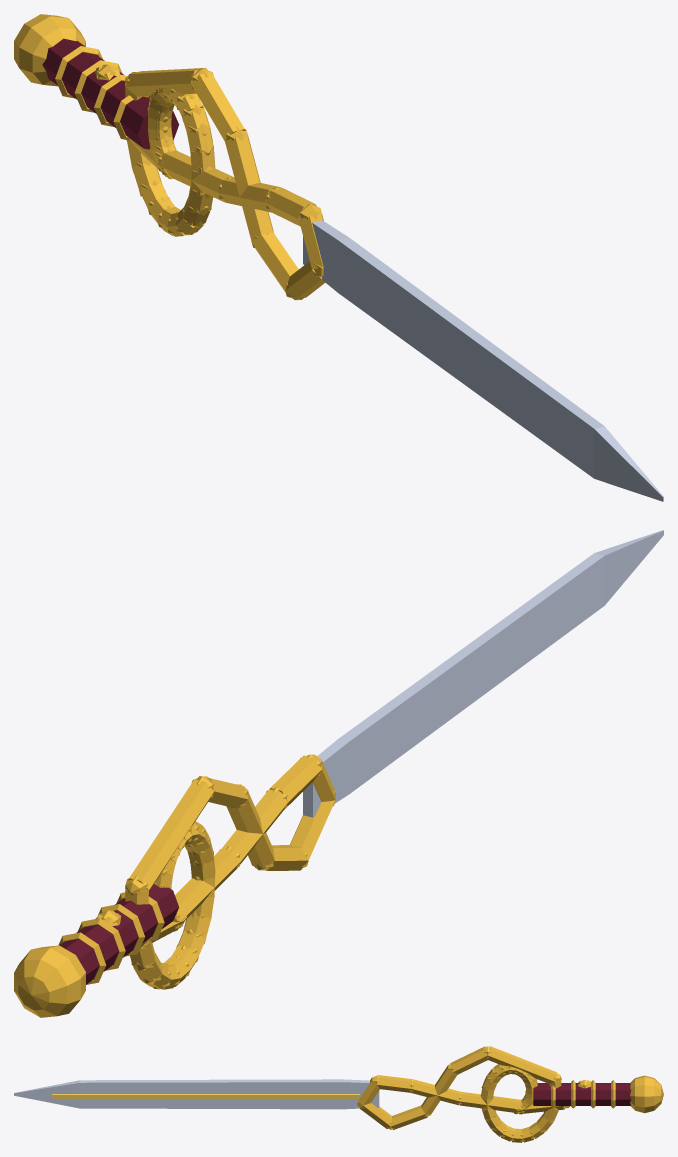
The model's file is Espada_ClaveDeSol.obj.
3 views of the same model, one above another, from view 1: azimuth 30°, elevation 25°; view 2: azimuth 150°, elevation 25°; view 3: azimuth 270°, elevation 25° (orthographic). The views are drawn at different scales.
Visible parts, largest first — view 1: Espada_ClaveDeSol; view 2: Espada_ClaveDeSol; view 3: Espada_ClaveDeSol.
Boxes of the visible parts, left/top/right/bottom form: Espada_ClaveDeSol: left=14, top=14, right=663, bottom=501; Espada_ClaveDeSol: left=14, top=530, right=663, bottom=1017; Espada_ClaveDeSol: left=14, top=1046, right=663, bottom=1142.
Size of the model in its own units: 9.52 by 27.53 by 169.
